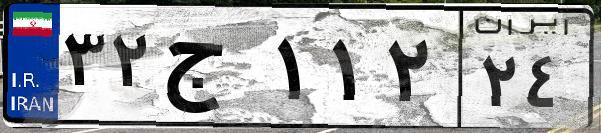1: (270, 28, 330, 110), (330, 28, 385, 110)
2: (385, 28, 445, 110), (475, 38, 525, 113), (110, 28, 158, 98)
3: (57, 26, 110, 100)
4: (525, 38, 570, 115)
ج: (158, 20, 270, 120)
